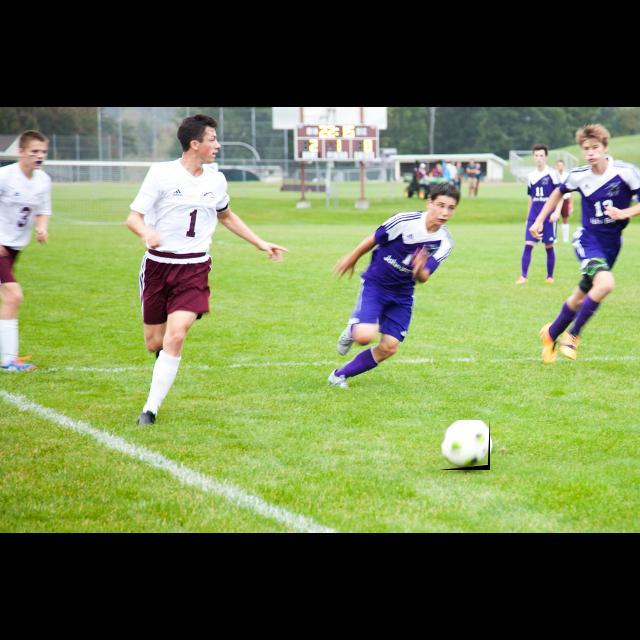Football: (440, 420, 490, 470)
